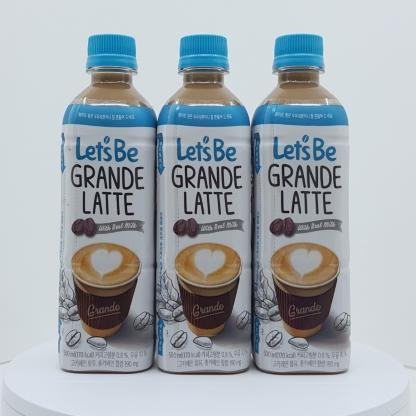--------500ML: (251, 33, 352, 375), (58, 33, 158, 374), (155, 33, 253, 375)
